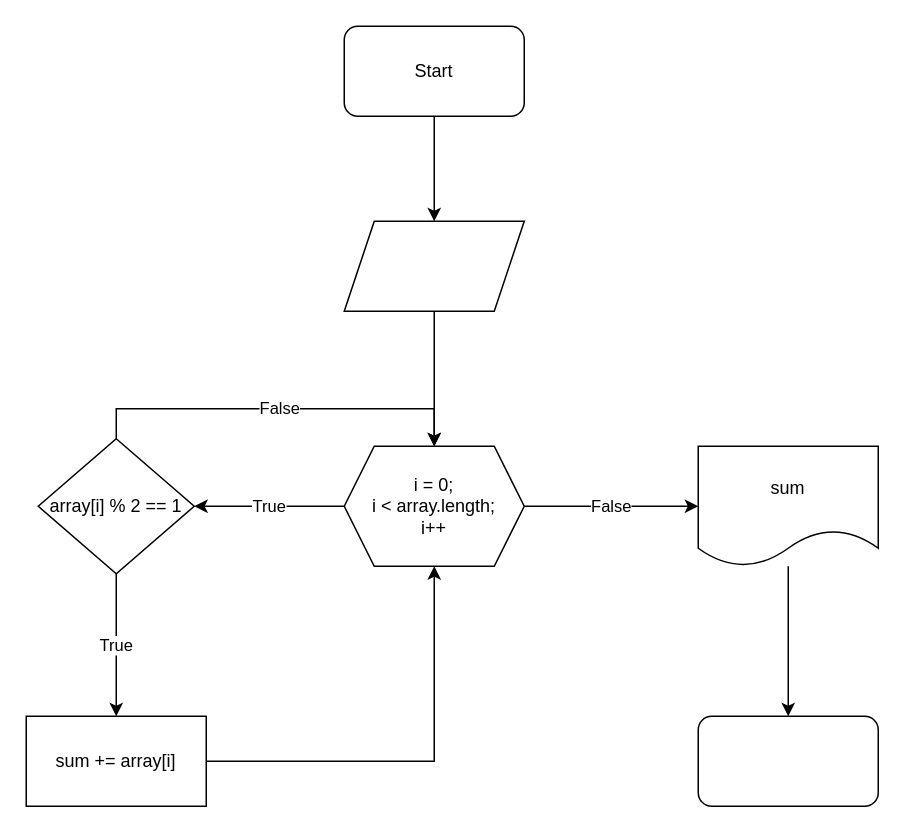
This 905x833 diagram has some shape labels left out. The box of each missing label's shape, as (x1, y1, x2, y2) in pixels:
array, sum = 0: (343, 220, 524, 311)
End: (697, 715, 878, 806)
